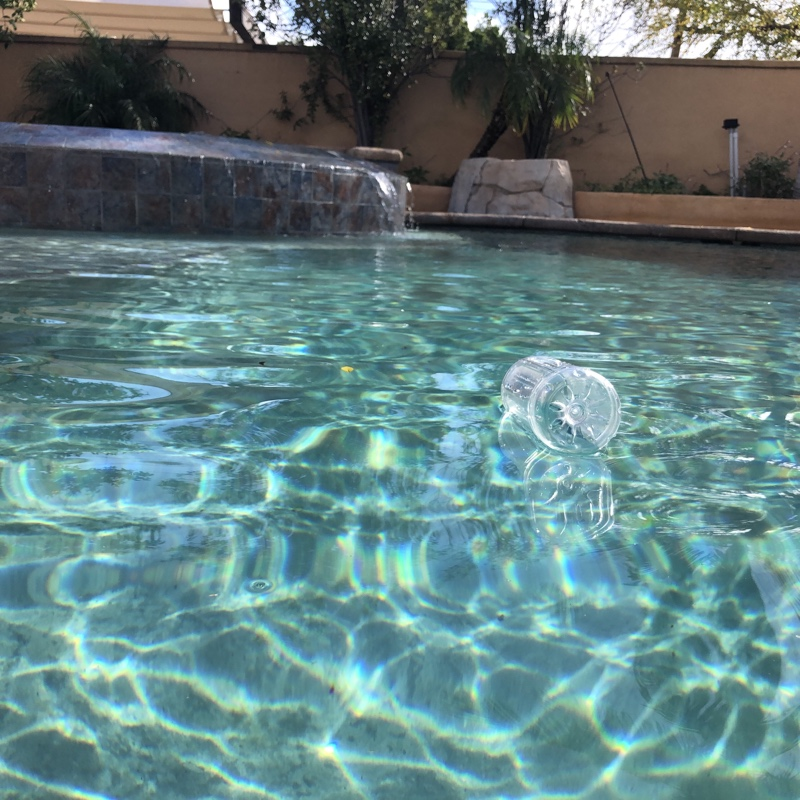Plastic Bottle: (498, 350, 625, 459)
